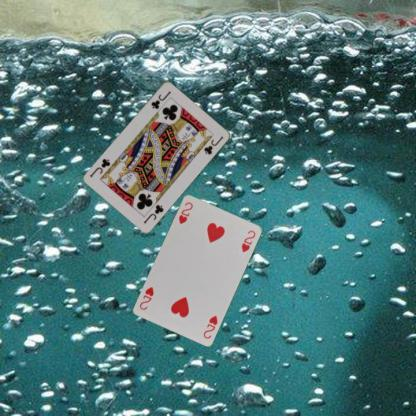2h: (200, 312, 219, 340), (176, 199, 194, 225)
Jc: (141, 201, 165, 224), (149, 89, 172, 110)
